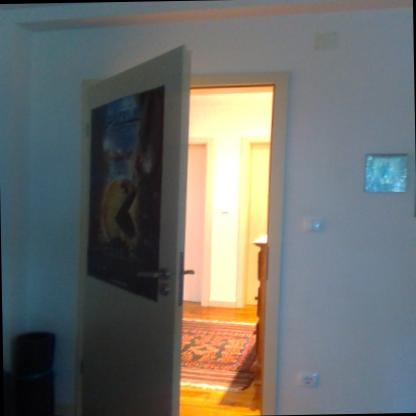semi: (66, 46, 298, 413)
